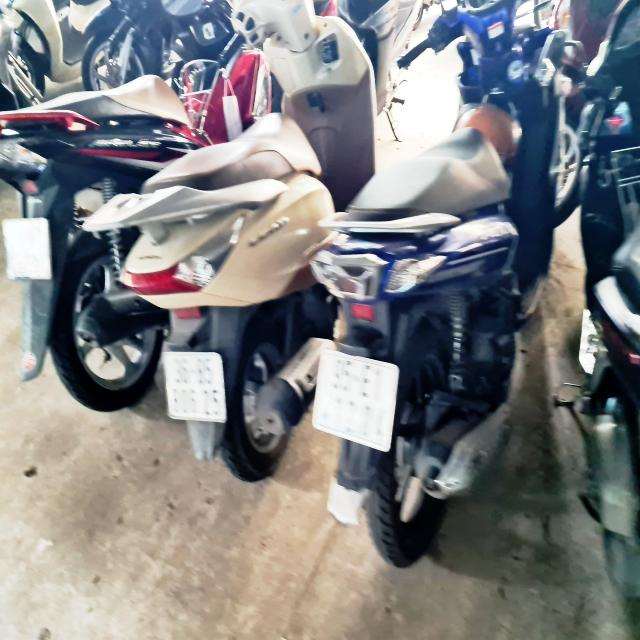license_plate: (314, 346, 400, 459), (165, 349, 230, 425), (8, 217, 52, 283)
